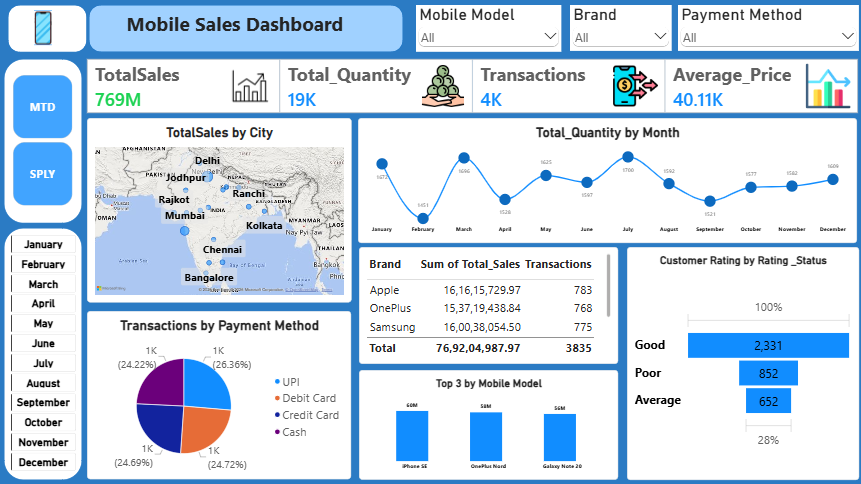

The dashboard page shown, as its layout file describes it:
{"tool":"powerbi","page":{"name":"Dashboard","canvas":[1920,1080],"ordinal":0},"visuals":[{"type":"shape","box":[22.5,10,175,105],"z":0},{"type":"image","box":[80,22.5,40,77.5],"z":1000},{"type":"shape","box":[13.3,131.1,173.3,365],"z":2000},{"type":"shape","box":[13.3,506.7,173.3,560],"z":3000},{"type":"cardVisual","fields":{"Data":["Mobile Sales Data.TotalSales","Mobile Sales Data.Total_Units_Sold","Mobile Sales Data.Transactions","Mobile Sales Data.Average_Price"]},"box":[197.5,130,1715,120],"z":4000},{"type":"slicer","fields":{"Values":["Mobile Sales Data.Mobile Model"]},"box":[929.8,10.6,323.4,104.3],"z":5000},{"type":"slicer","fields":{"Values":["Mobile Sales Data.Payment Method"]},"box":[1510.6,10.6,402.1,102.1],"z":6000},{"type":"slicer","fields":{"Values":["Mobile Sales Data.Brand"]},"box":[1270.2,10.6,225.5,102.1],"z":7000},{"type":"shape","box":[202.2,11.1,697.8,104.4],"z":8000},{"type":"textbox","box":[268.9,22.2,515.6,93.3],"z":9000},{"type":"map","fields":{"Category":["Mobile Sales Data.City"],"Size":["Mobile Sales Data.TotalSales"]},"box":[197.8,262.2,587.5,410],"z":10000},{"type":"funnel","title":" Customer Rating by Rating _Status","fields":{"Category":["Mobile Sales Data.Rating _Status"],"Y":["CountNonNull(Mobile Sales Data.Rating _Status)"]},"box":[1397.8,548.9,515.6,517.8],"z":11000},{"type":"pieChart","fields":{"Y":["Mobile Sales Data.Transactions"],"Category":["Mobile Sales Data.Payment Method"]},"box":[197.9,691.5,587.2,374.5],"z":12000},{"type":"lineChart","fields":{"Category":["Date Calender.Date.Variation.Date Hierarchy.Month"],"Y":["Mobile Sales Data.Total_Quantity"]},"box":[800,262.2,1108.9,277.8],"z":13000},{"type":"tableEx","fields":{"Values":["Mobile Sales Data.Brand","Sum(Mobile Sales Data.Total_Sales)","Mobile Sales Data.Transactions"]},"box":[802.2,548.9,575.6,260],"z":14000},{"type":"columnChart","title":"Top 3 by Mobile Model","fields":{"Category":["Mobile Sales Data.Mobile Model"],"Y":["Mobile Sales Data.TotalSales"]},"box":[802.2,822.2,575.6,244.4],"z":15000},{"type":"pageNavigator","box":[32.6,167.4,132.6,290.7],"z":16000},{"type":"advancedSlicerVisual","fields":{"Values":["Date Calender.Date.Variation.Date Hierarchy.Month"]},"box":[28,522,144,526],"z":17000}]}

Visuals, with their boxes in screenshot pixels (x1, y1, x2, y2), scaled from the page's 1920x1080 canvas onto the 861x484 screenshot:
shape: left=10, top=4, right=89, bottom=52
image: left=36, top=10, right=54, bottom=45
shape: left=6, top=59, right=84, bottom=222
shape: left=6, top=227, right=84, bottom=478
cardVisual - Mobile Sales Data.TotalSales x Mobile Sales Data.Total_Units_Sold: left=89, top=58, right=858, bottom=112
slicer - Mobile Sales Data.Mobile Model: left=417, top=5, right=562, bottom=51
slicer - Mobile Sales Data.Payment Method: left=677, top=5, right=858, bottom=51
slicer - Mobile Sales Data.Brand: left=570, top=5, right=671, bottom=51
shape: left=91, top=5, right=404, bottom=52
textbox: left=121, top=10, right=352, bottom=52
map - Mobile Sales Data.City x Mobile Sales Data.TotalSales: left=89, top=118, right=352, bottom=301
" Customer Rating by Rating _Status" funnel: left=627, top=246, right=858, bottom=478
pieChart - Mobile Sales Data.Transactions x Mobile Sales Data.Payment Method: left=89, top=310, right=352, bottom=478
lineChart - Date Calender.Date.Variation.Date Hierarchy.Month x Mobile Sales Data.Total_Quantity: left=359, top=118, right=856, bottom=242
tableEx - Mobile Sales Data.Brand x Sum(Mobile Sales Data.Total_Sales): left=360, top=246, right=618, bottom=363
"Top 3 by Mobile Model" columnChart: left=360, top=368, right=618, bottom=478
pageNavigator: left=15, top=75, right=74, bottom=205
advancedSlicerVisual - Date Calender.Date.Variation.Date Hierarchy.Month: left=13, top=234, right=77, bottom=470
